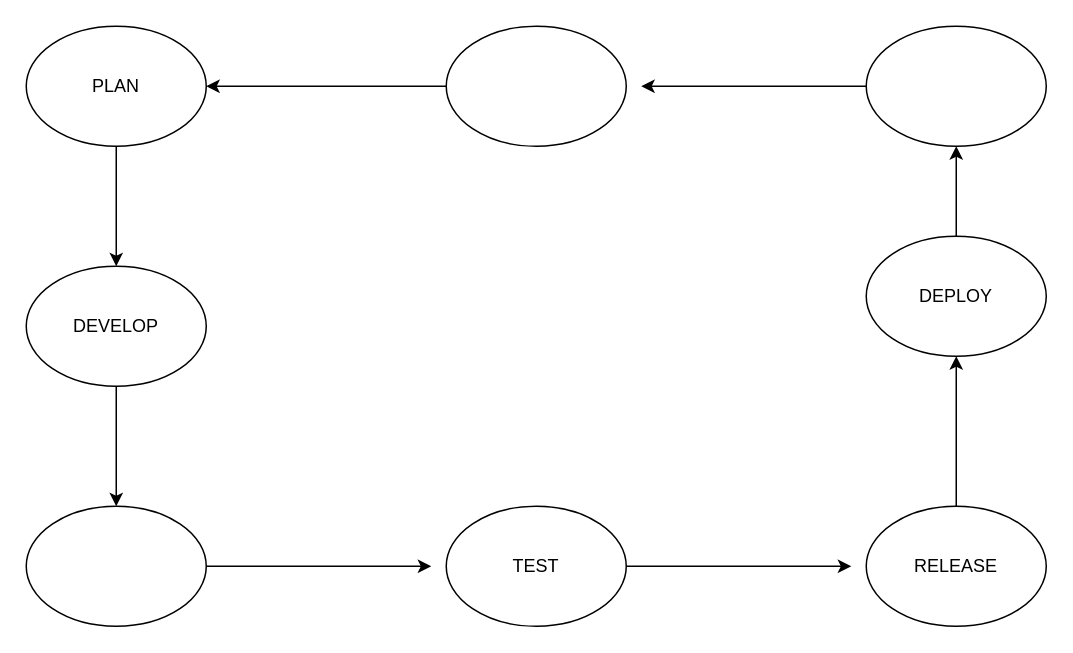
The diagram is 1073 pixels wide and 653 high, and some of its shapes have lost their labels. The centre of each missing label's shape, as x and y in pixels:
BUILD: the point at 115,565
OPEARTE: the point at 955,85
